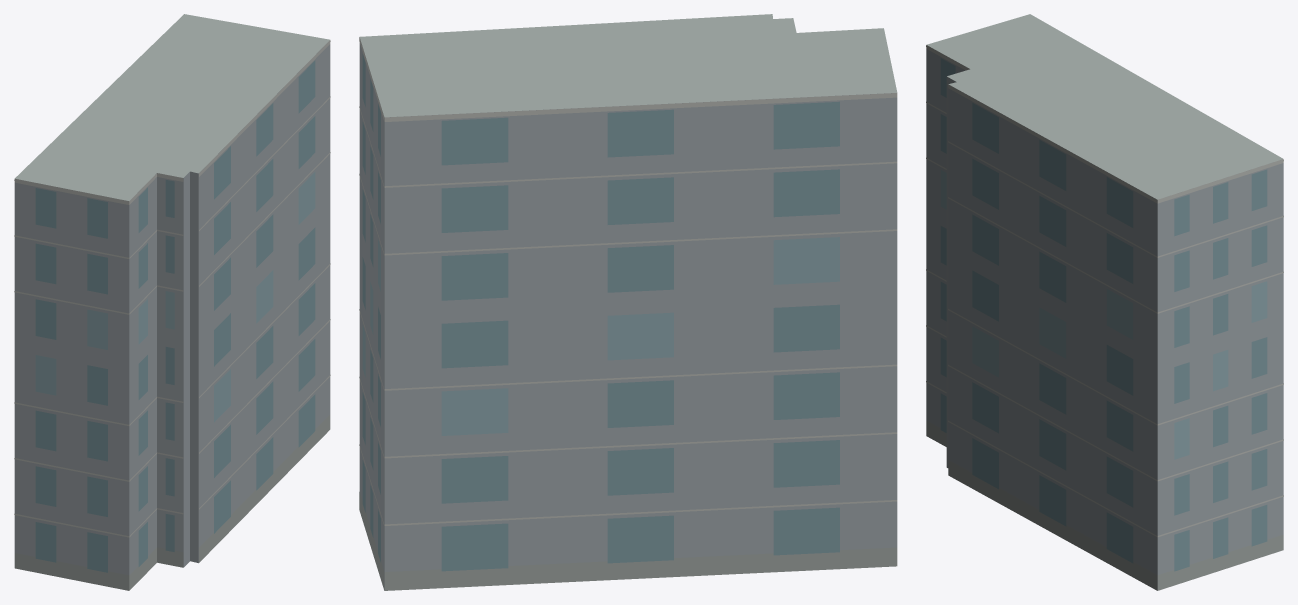
File: survey-upis-32569261.glb
3 views of the same model, side by side, from view 1: azimuth 30°, elevation 25°; view 2: azimuth 150°, elevation 25°; view 3: azimuth 270°, elevation 25° (orthographic). The views are drawn at different scales.
Visible parts, largest first — view 1: survey-upis-32569261.tmp; view 2: survey-upis-32569261.tmp; view 3: survey-upis-32569261.tmp.
Boxes of the visible parts, left/top/right/bottom form: survey-upis-32569261.tmp: left=14, top=14, right=330, bottom=590; survey-upis-32569261.tmp: left=359, top=14, right=897, bottom=590; survey-upis-32569261.tmp: left=926, top=14, right=1283, bottom=590.
Bounding box in the file's own units: 24.61 × 24.15 × 20.02.
